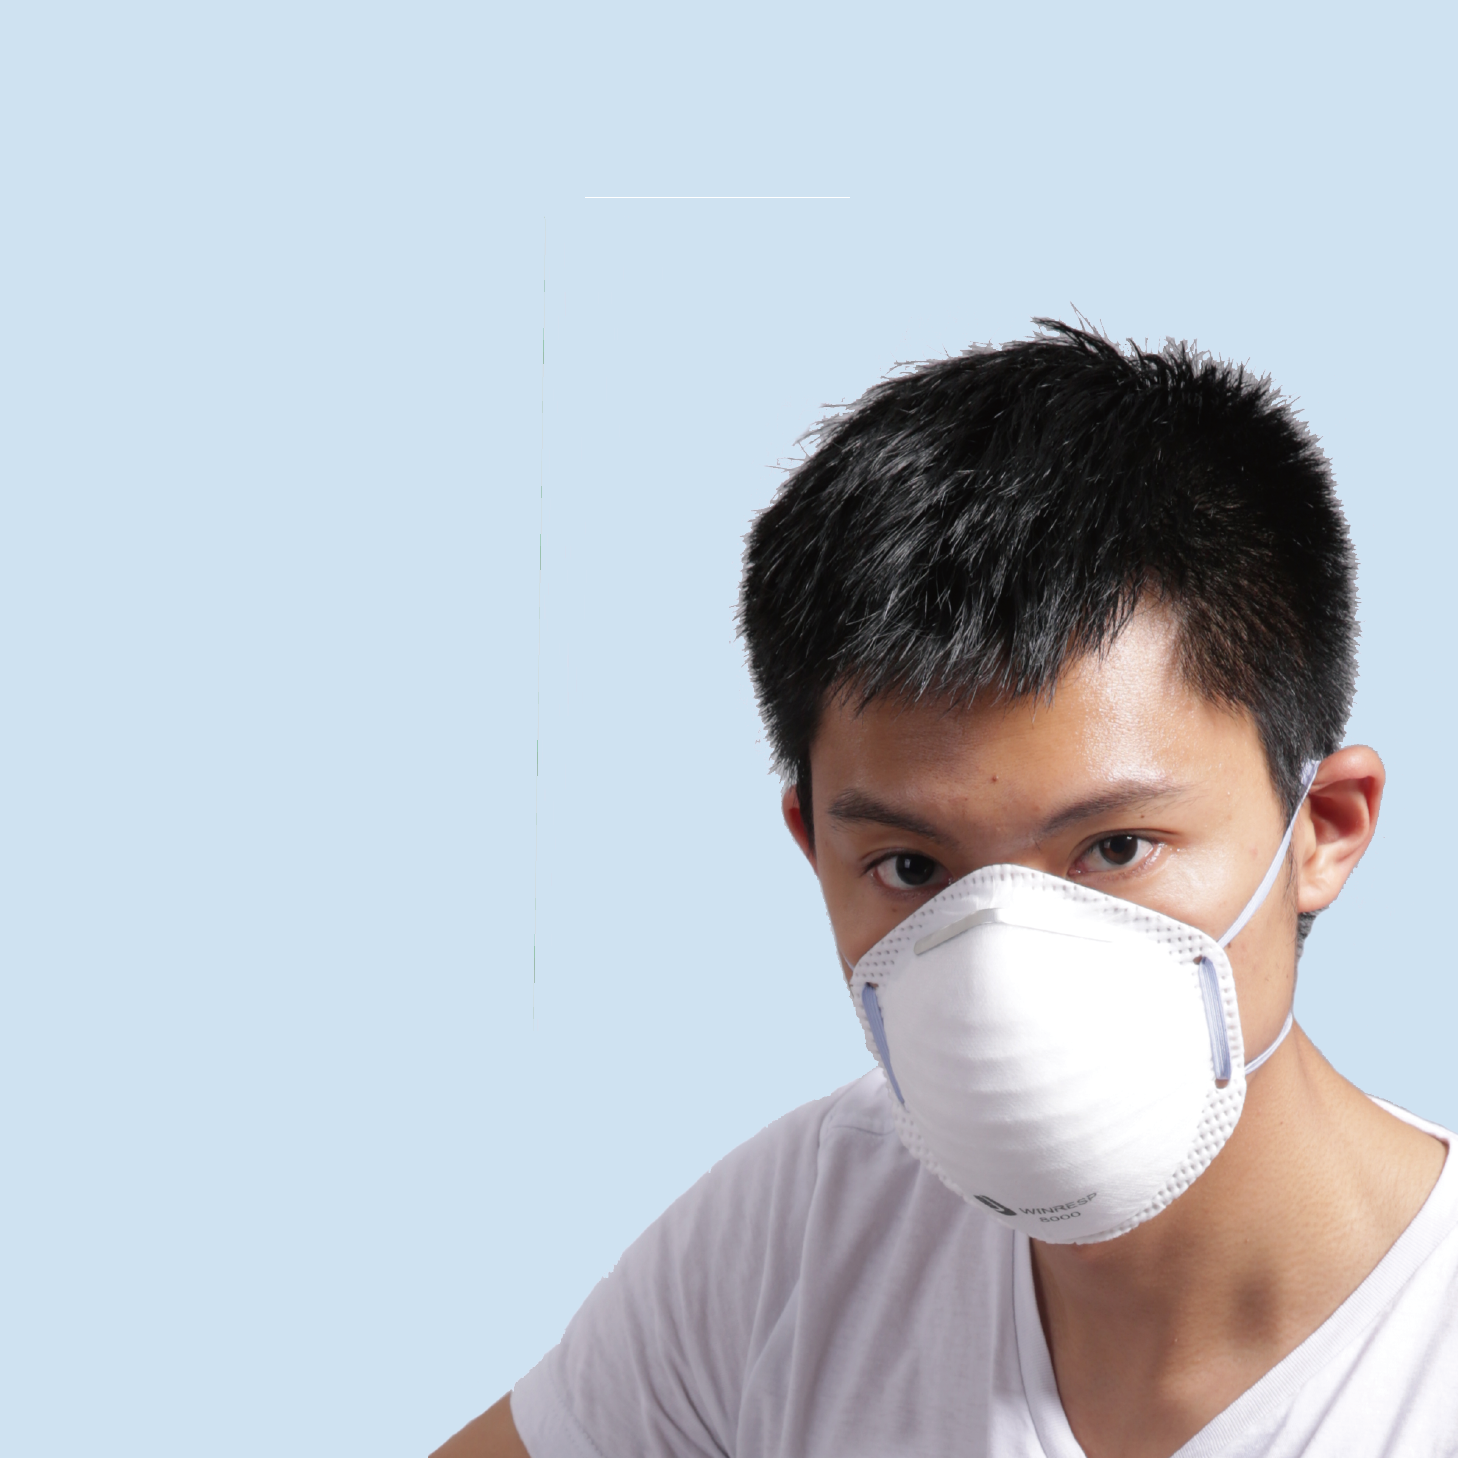face_mask: (807, 638, 1290, 1216)
